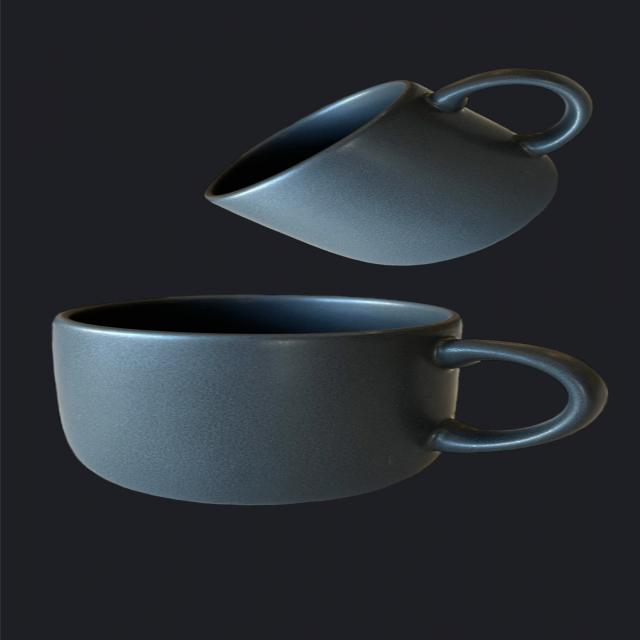taza: (41, 283, 622, 511), (194, 50, 626, 276)
